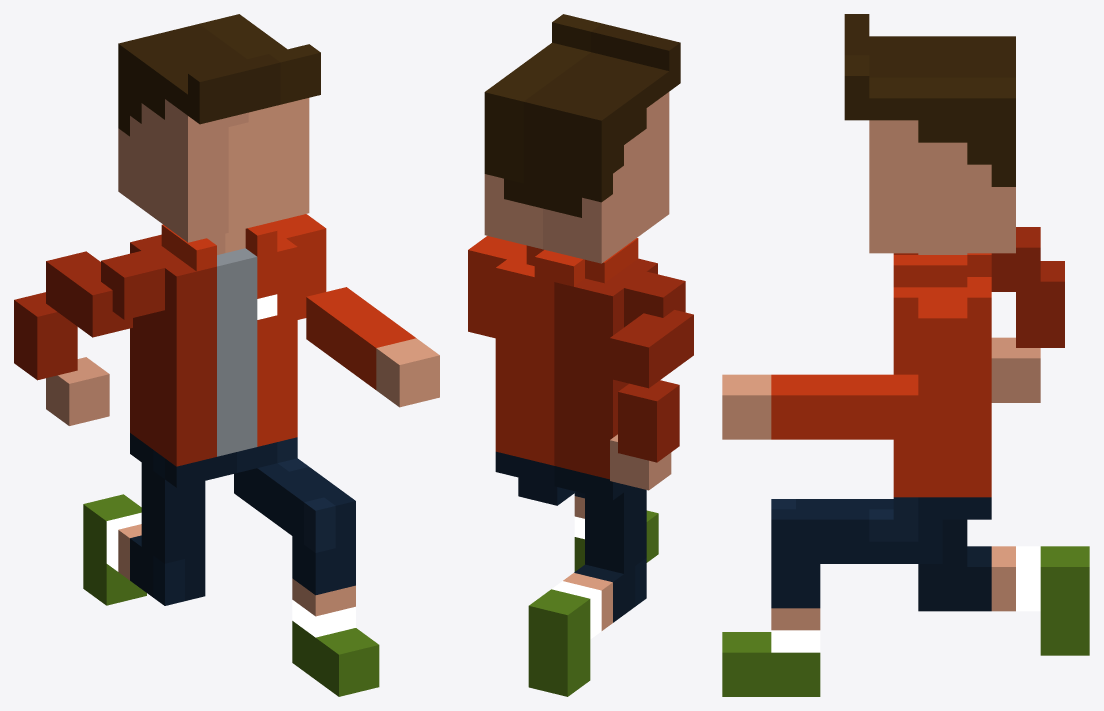
File: TM_Boy.gltf
The picture shows the model from 3 angles, left to right: view 1: azimuth 30°, elevation 25°; view 2: azimuth 150°, elevation 25°; view 3: azimuth 270°, elevation 25°; orthographic projection. The views are drawn at different scales.
Bounding box in the file's own units: 13 × 28 × 15.
Materials: 2 (2 with a texture image).
